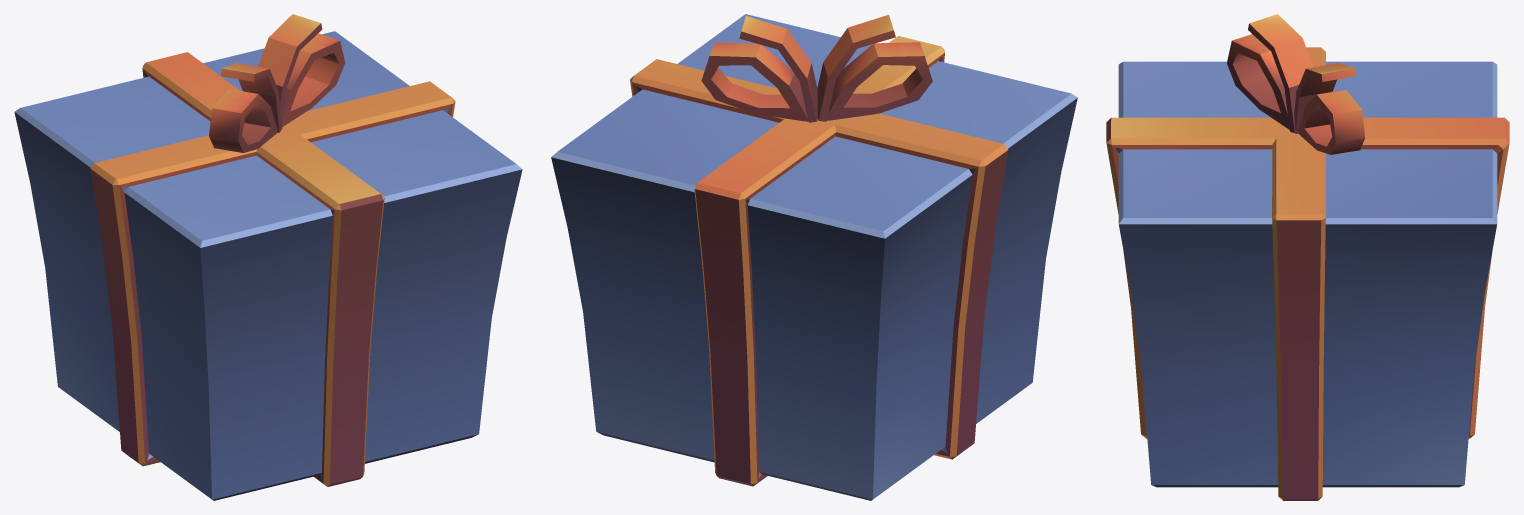
The model's file is package_Silver.fbx.
3 views of the same model, side by side, from view 1: azimuth 30°, elevation 25°; view 2: azimuth 150°, elevation 25°; view 3: azimuth 270°, elevation 25° (orthographic). The views are drawn at different scales.
Visible parts, largest first — view 1: Package_Red; view 2: Package_Red; view 3: Package_Red.
Boxes of the visible parts, x1=… form: Package_Red: x1=14, y1=14, x2=522, y2=500; Package_Red: x1=551, y1=14, x2=1077, y2=500; Package_Red: x1=1106, y1=14, x2=1509, y2=500.
Bounding box in the file's own units: 0.3221 × 0.3419 × 0.3221.
